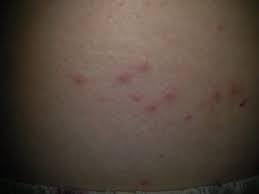Goosebumps: (4, 0, 258, 188)
